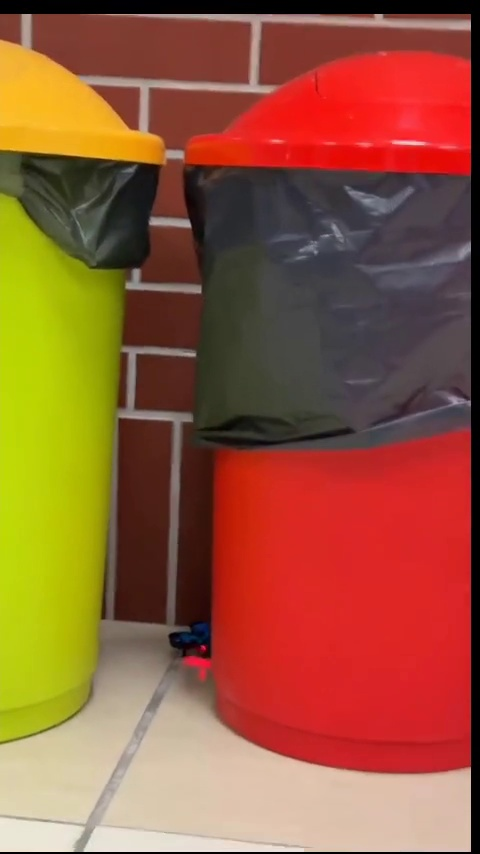drone: (169, 621, 214, 658)
